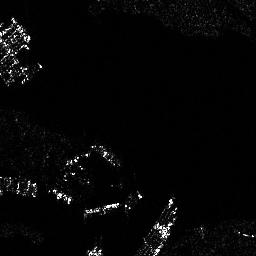ship: (10, 16, 31, 44)
